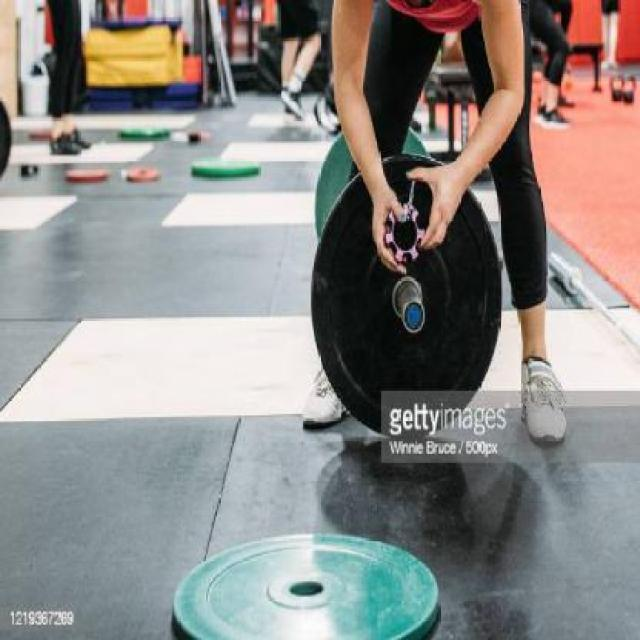barbell: (301, 146, 512, 446)
